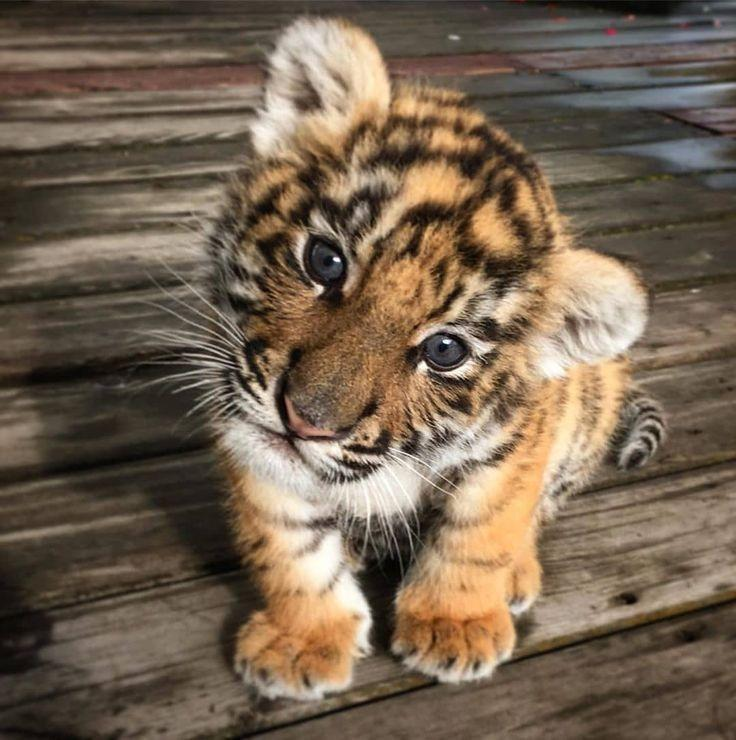non-dog: (181, 12, 670, 704)
